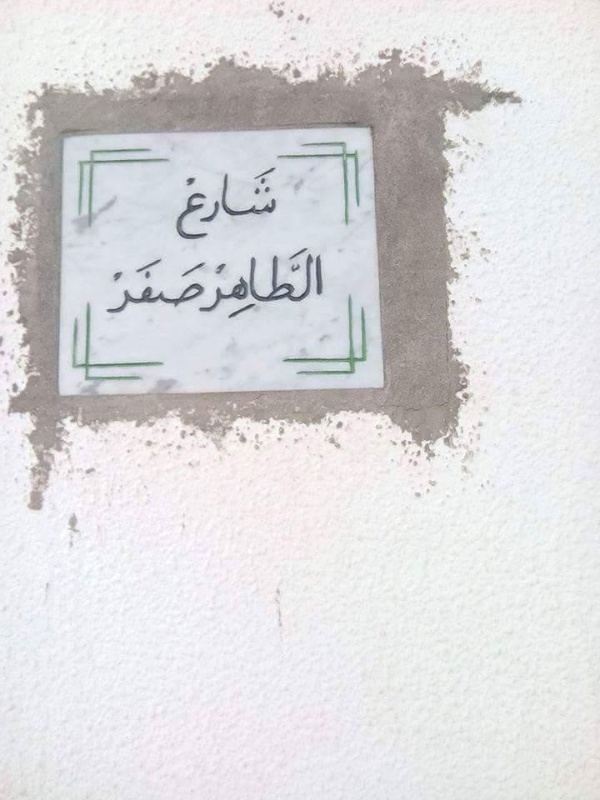text: (177, 165, 192, 242), (193, 165, 208, 242), (209, 165, 224, 242), (225, 165, 240, 242), (241, 165, 256, 242), (257, 165, 272, 242), (209, 246, 224, 320), (225, 246, 240, 320), (241, 246, 256, 320), (257, 246, 272, 320), (273, 246, 288, 320), (289, 246, 304, 320), (305, 246, 320, 320), (113, 256, 128, 317), (129, 256, 144, 317), (145, 256, 160, 317), (161, 256, 176, 317), (177, 256, 192, 317), (193, 256, 208, 317), (197, 246, 208, 320), (273, 165, 280, 242), (106, 256, 112, 317), (172, 165, 176, 242), (321, 246, 324, 320)
